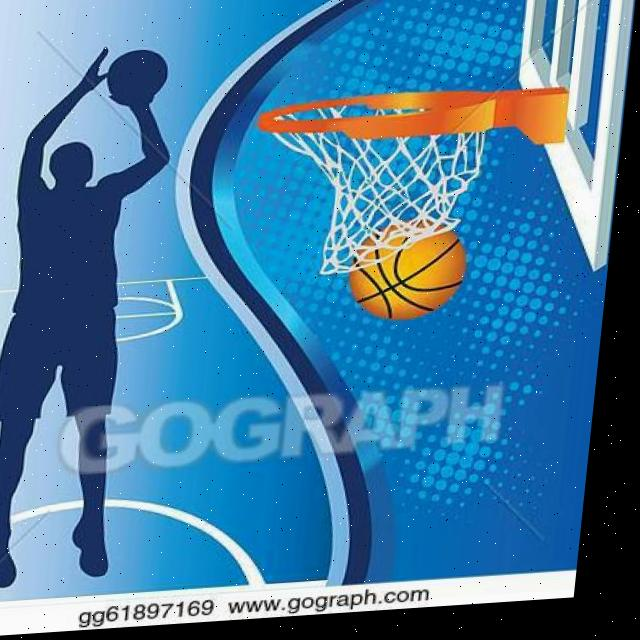Basketball: (345, 214, 471, 324)
hoop: (241, 85, 499, 280)
